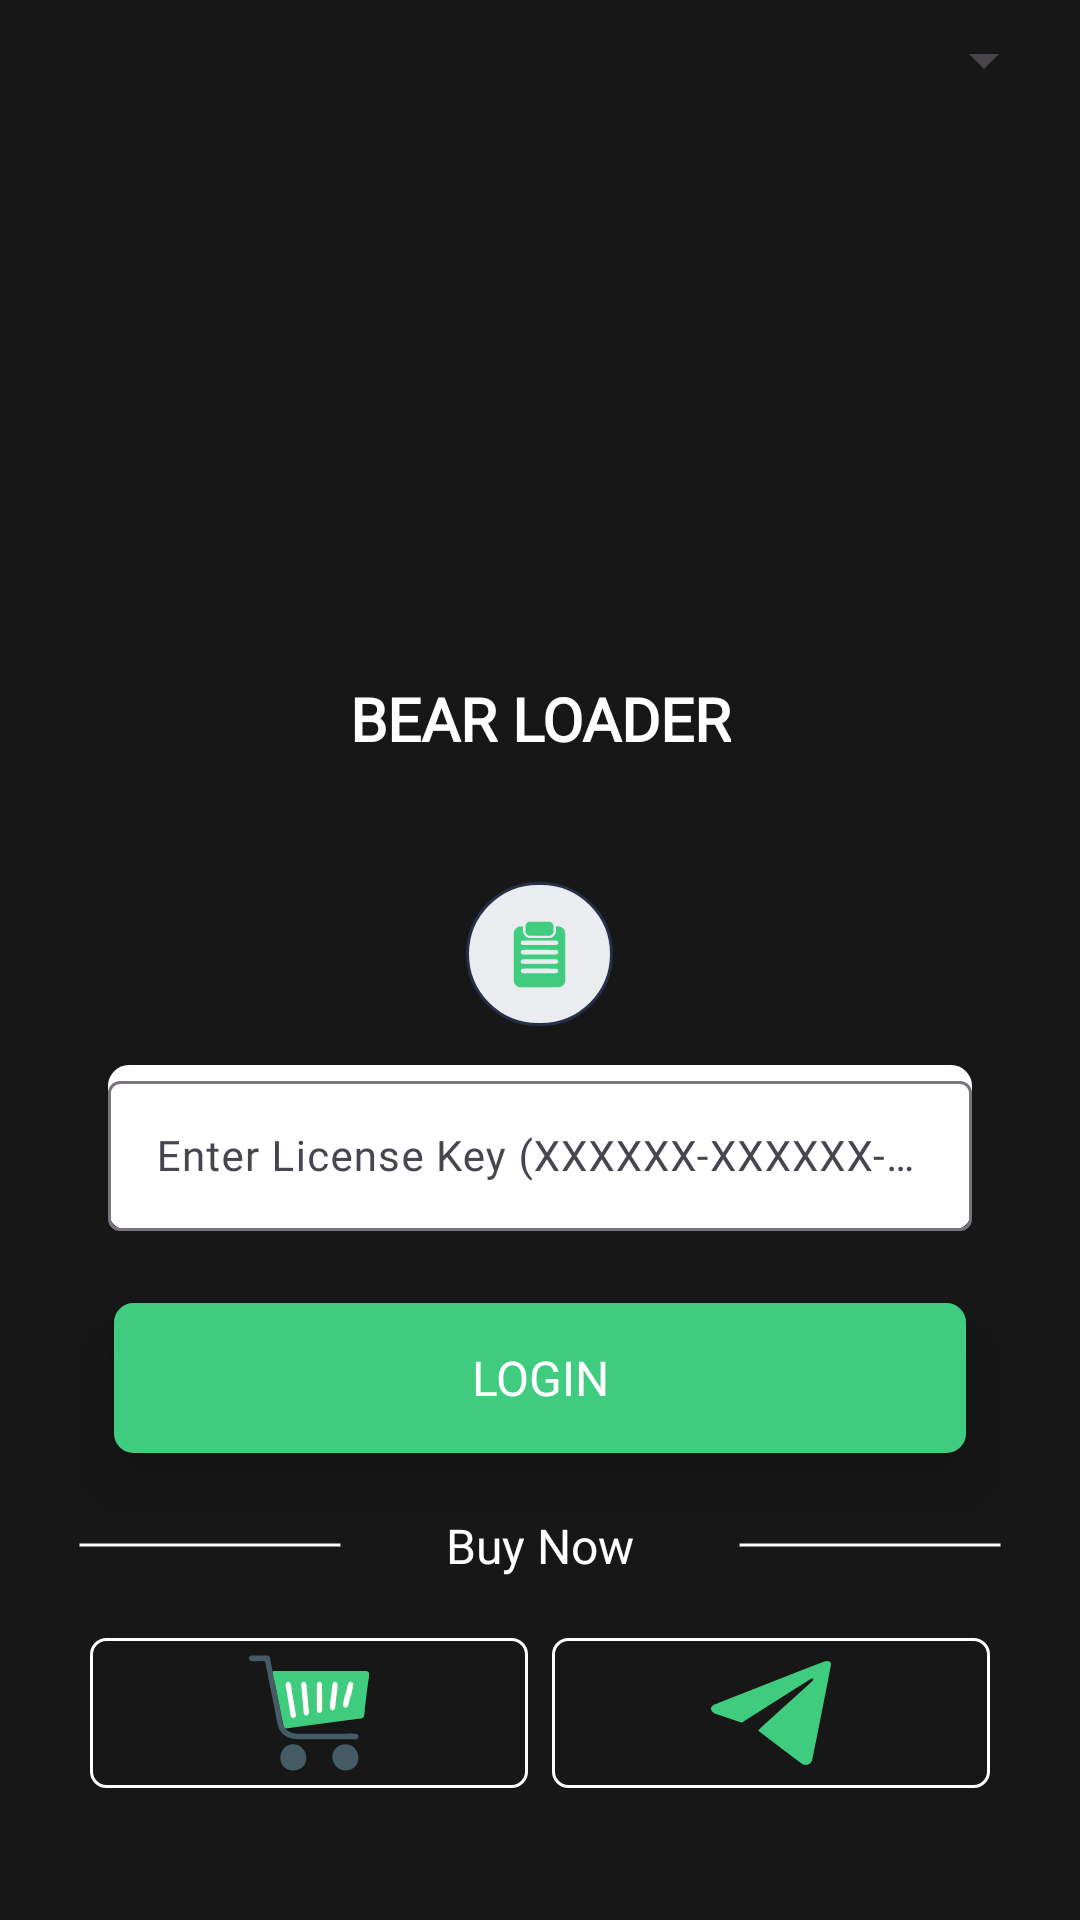

Named icons in this screenshot (1080 × 1920) and their bounding boxes, (x1, y1, x2, y2):
paste: (466, 882, 613, 1026)
store: (249, 1655, 369, 1771)
